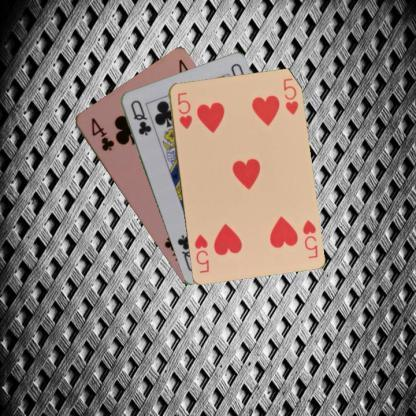4c: (88, 115, 116, 152)
5h: (299, 216, 319, 260), (174, 90, 193, 130)
Qc: (128, 97, 152, 137)
